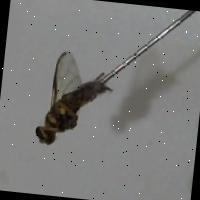Oriental-fruit-fly: (24, 42, 119, 156)
